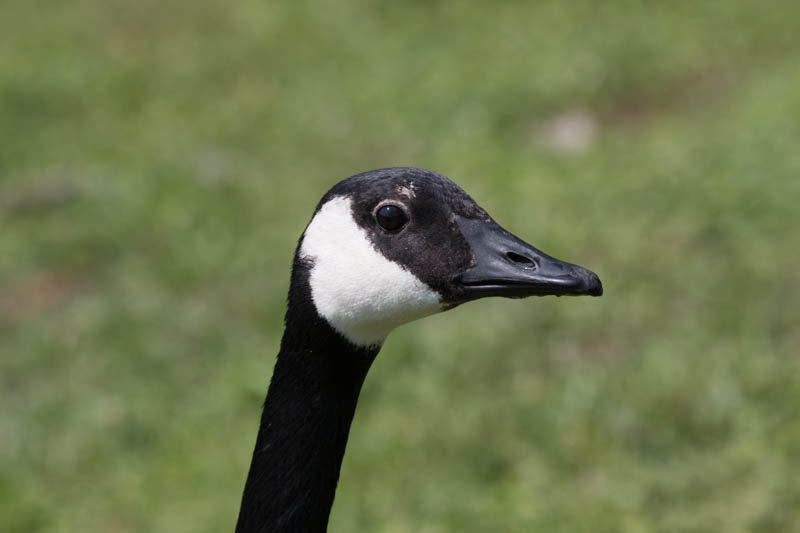goose-head: (285, 168, 604, 347)
